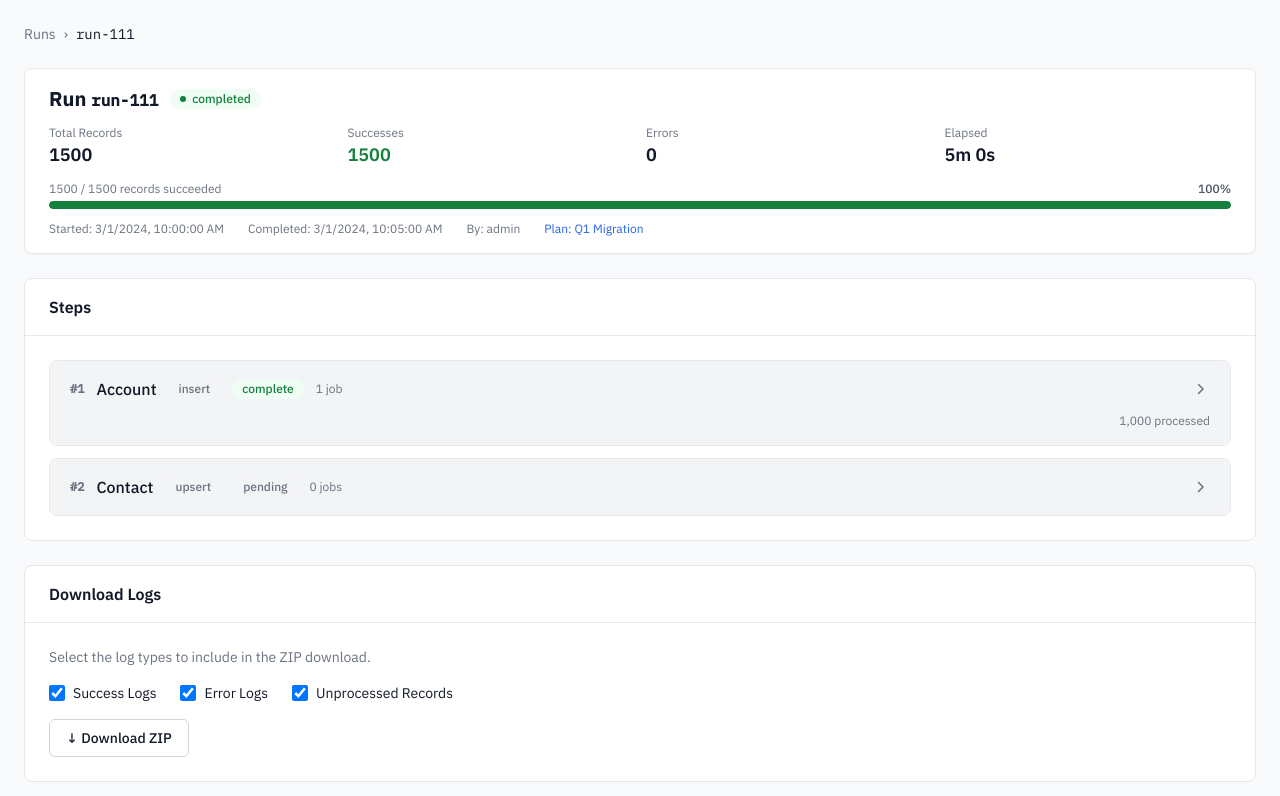
Test: RunDetail › expands step accordion to show jobs when header is clicked
This screenshot has width=1280, height=796.
Click the button with aria-label "Step 1: Account".
click(126, 389)  # box top-left (70, 377), bottom-right (1178, 401)
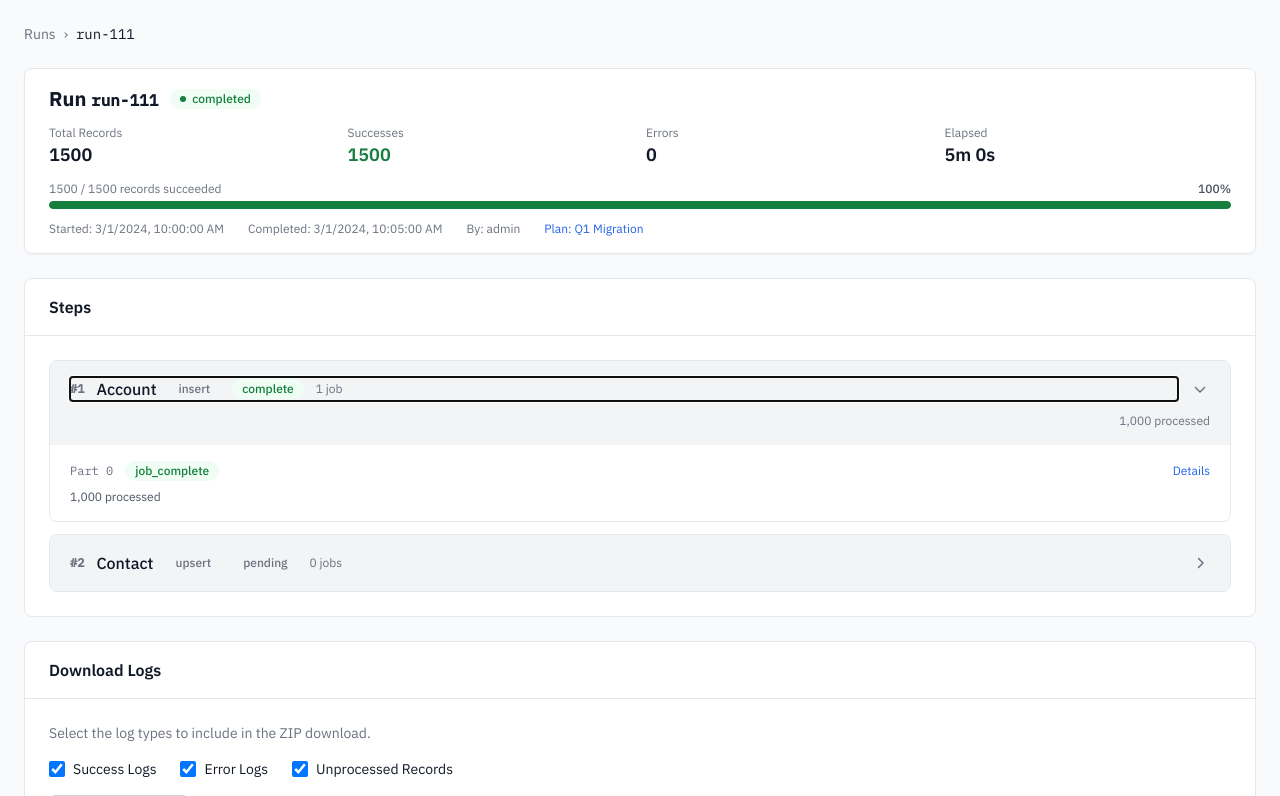
Result: the text "Part 0" is shown at top-left (70, 463), bottom-right (113, 479)
Result: the text "job_complete" is shown at top-left (125, 461), bottom-right (219, 481)
